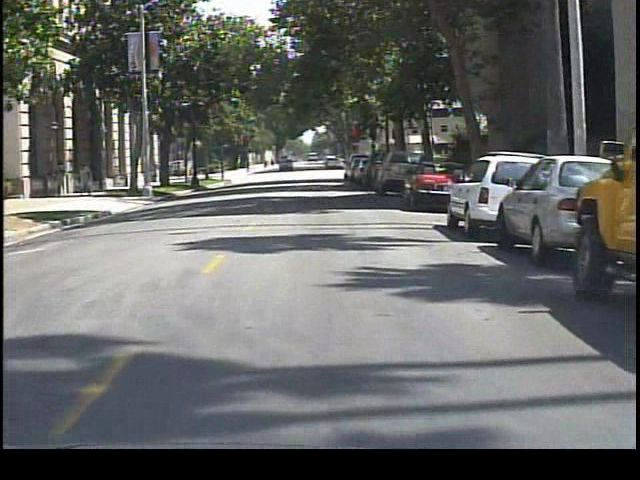person: (78, 160, 100, 199), (53, 155, 73, 197)
